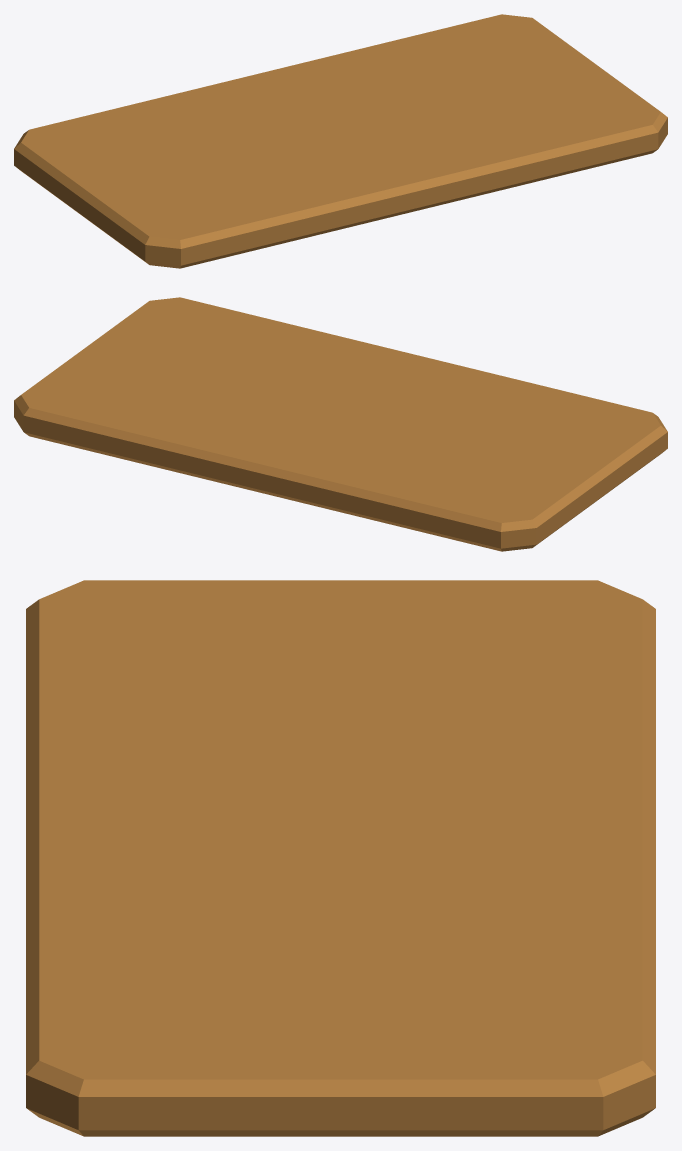
Rendered from SM_Cook_CuttingBoard_Wide_01.fbx.
3 renders of one model, top to bottom at view 1: azimuth 30°, elevation 25°; view 2: azimuth 150°, elevation 25°; view 3: azimuth 270°, elevation 25°, orthographic. The views are drawn at different scales.
Visible parts, largest first — view 1: SM_Cook_CuttingBoard_Wide_01; view 2: SM_Cook_CuttingBoard_Wide_01; view 3: SM_Cook_CuttingBoard_Wide_01.
Part boxes in pixels (x1,y1,x2,y2): SM_Cook_CuttingBoard_Wide_01: (14,14,667,268); SM_Cook_CuttingBoard_Wide_01: (14,297,667,551); SM_Cook_CuttingBoard_Wide_01: (26,580,655,1136).
Bounding box in the file's own units: 0.46 × 0.024 × 0.24.
1 material, 1 textured.
